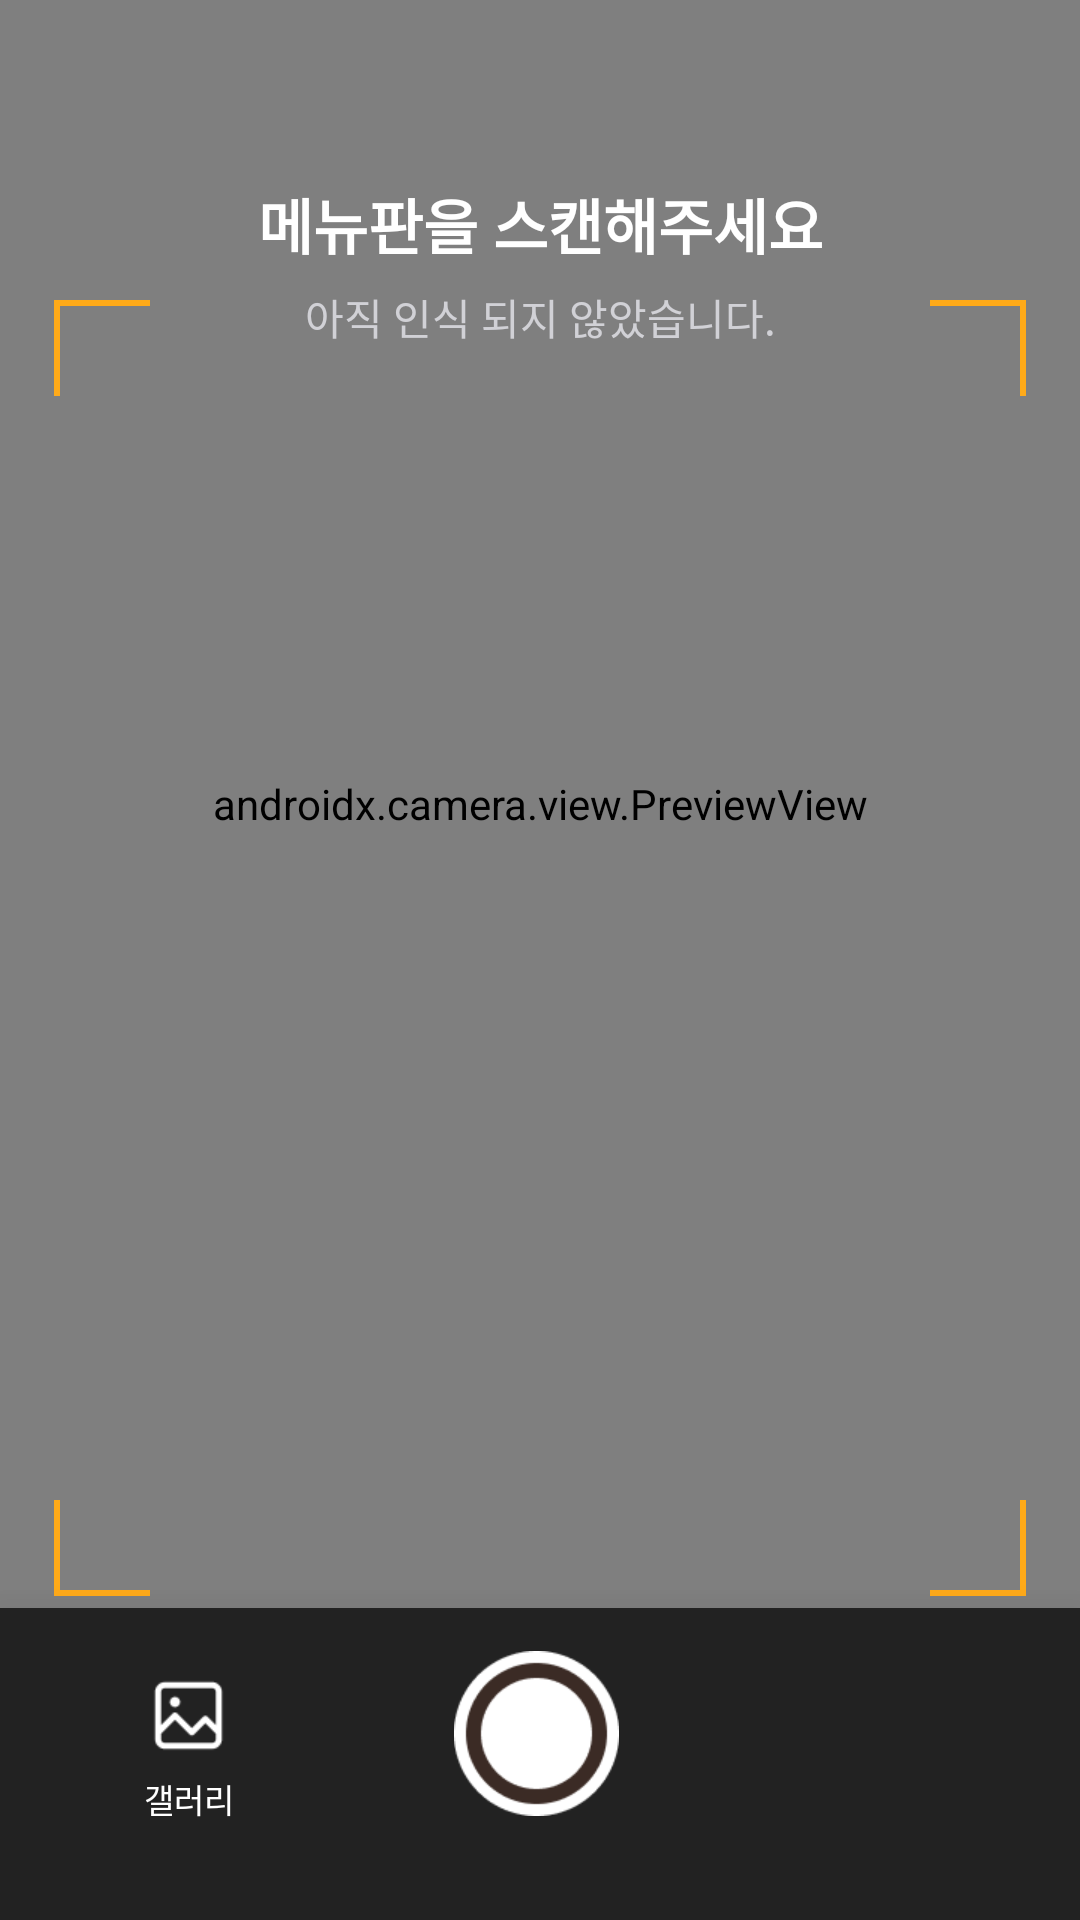

Where to tap for icons on this 1080x1920 app screen, as [x,y]:
촬영: [536,1733]
